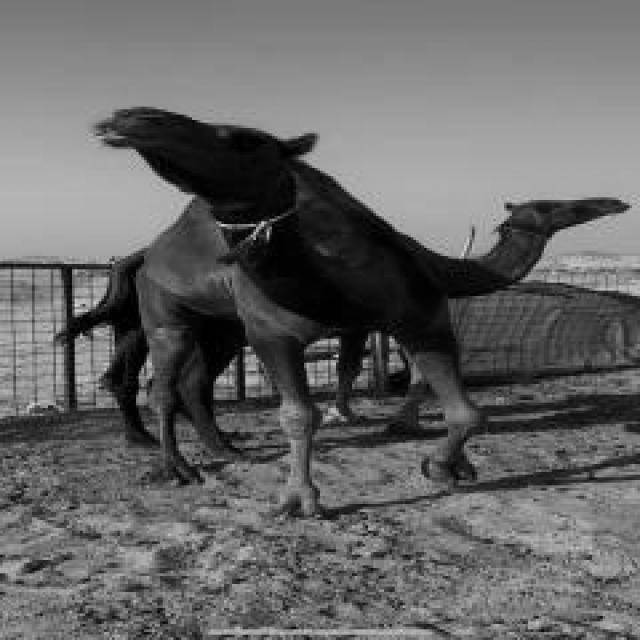Camel: (80, 104, 469, 517)
